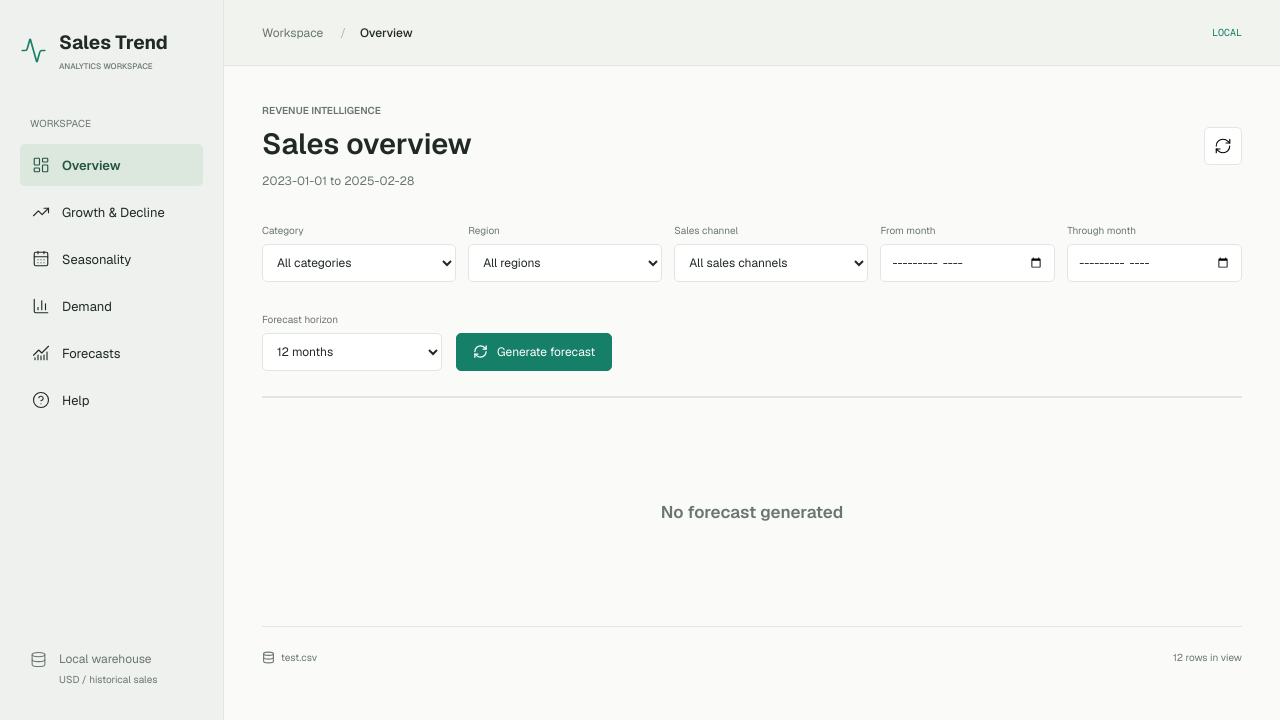
shows forecast failure and insufficient-history states
Click the button "Generate forecast".
click(534, 352)  # box 456,333 -> 612,371
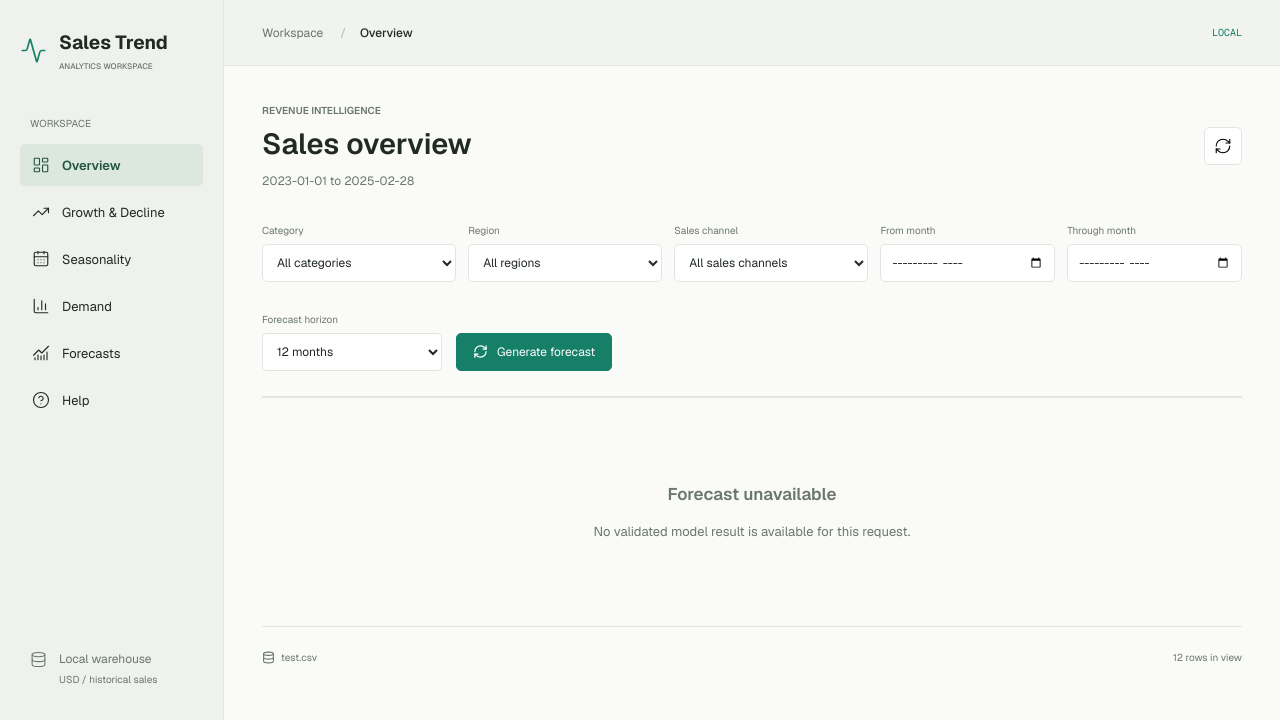
Result: the heading "Forecast unavailable" is shown at 668,483 -> 837,505
Click the button "Generate forecast".
click(534, 352)  # box 456,333 -> 612,371
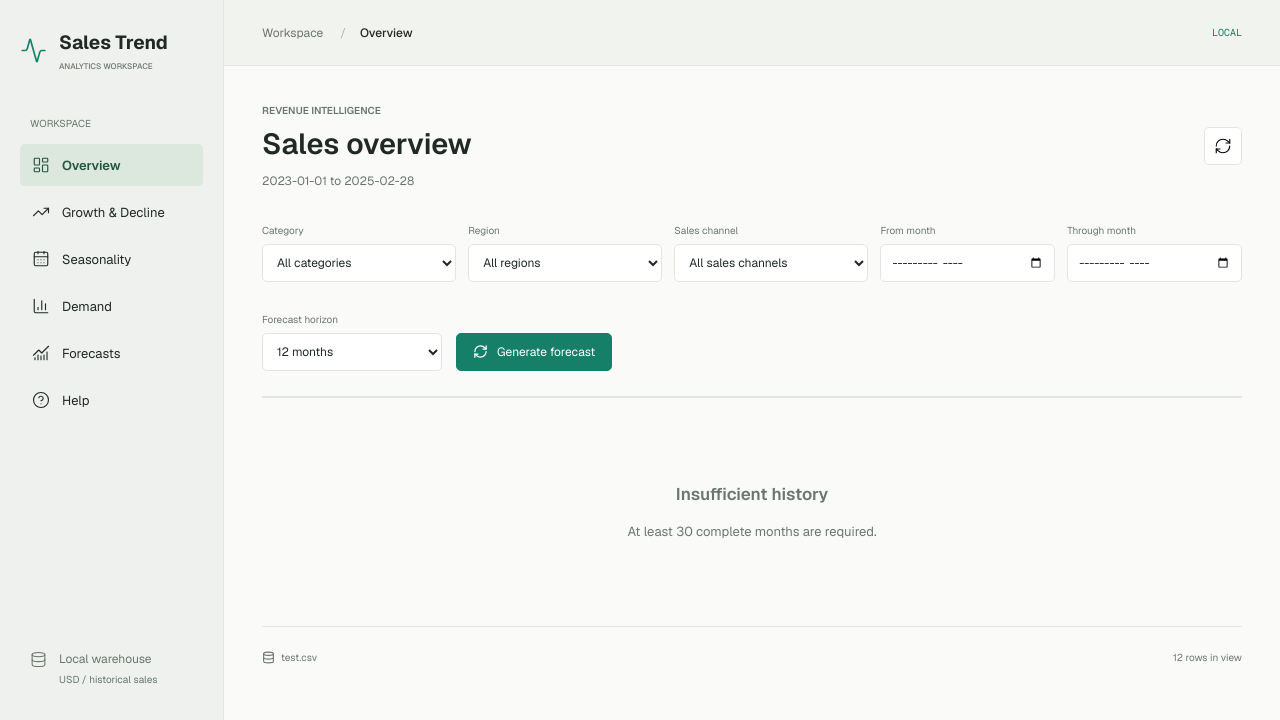
Result: the text "At least 30 complete months are required." is shown at 627,523 -> 877,540
